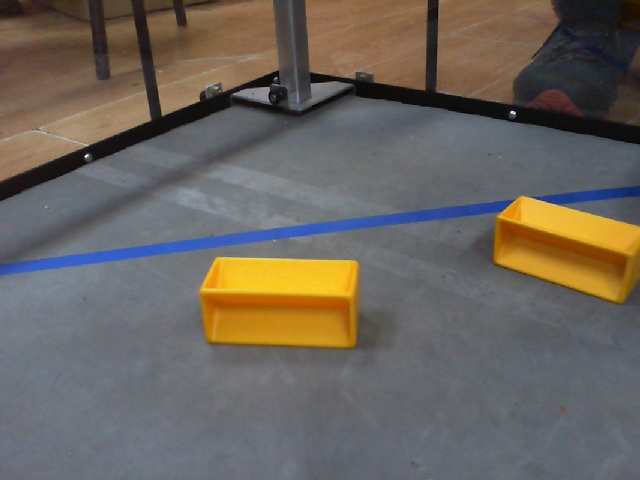YellowSample: (490, 193, 639, 322), (196, 251, 370, 354)
